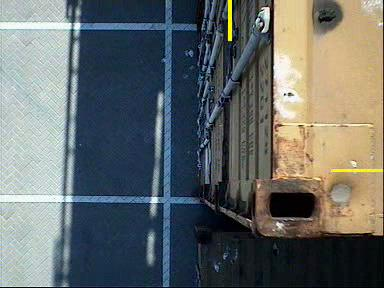groundmarker_2: (142, 21, 200, 59), (140, 167, 198, 205)
